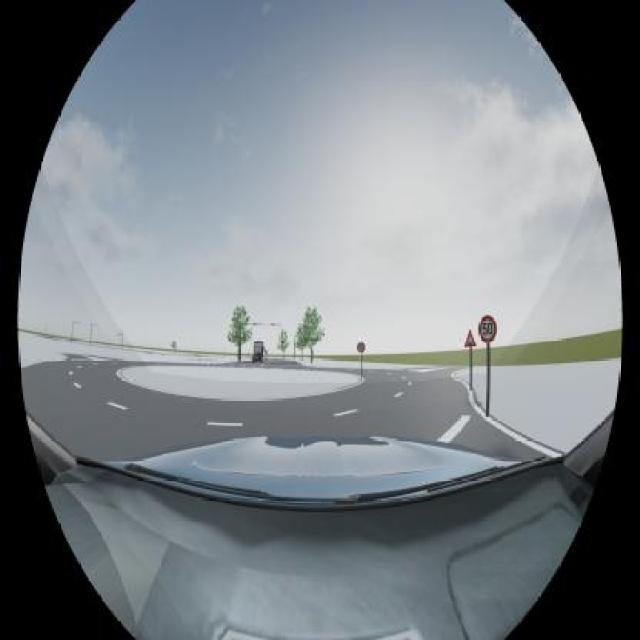forb_speed_over_50: (358, 342, 365, 353)
